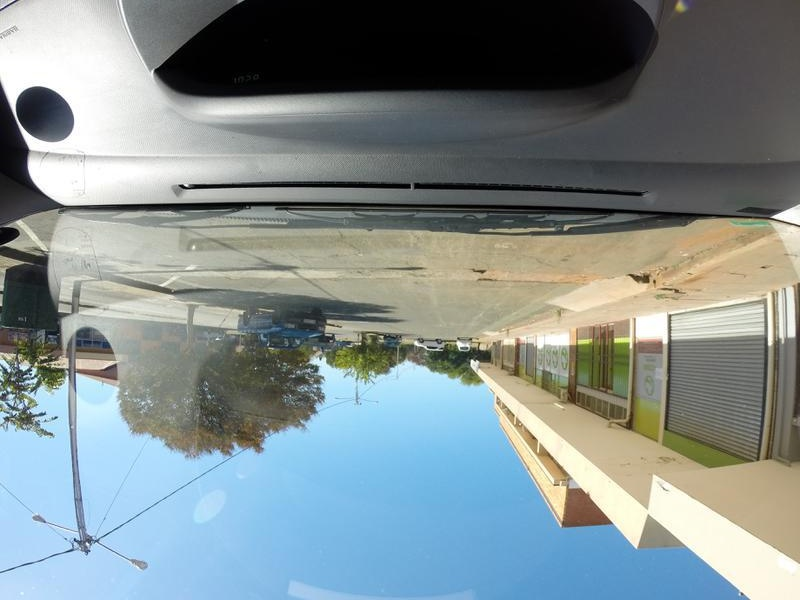pothole: (480, 270, 603, 283)
